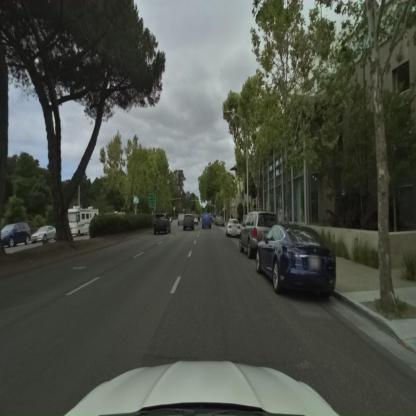car: (256, 222, 336, 298), (238, 212, 280, 259), (0, 222, 32, 248), (30, 226, 56, 245), (152, 216, 171, 234), (227, 219, 242, 238), (184, 216, 196, 230), (202, 214, 212, 229), (214, 217, 224, 226)
sign: (150, 184, 158, 209)
truck: (69, 207, 99, 237)
